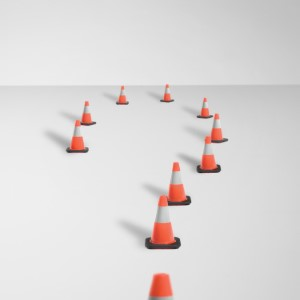traffic cone: (145, 195, 181, 249), (164, 162, 191, 206), (197, 136, 221, 173), (65, 119, 88, 153), (206, 113, 228, 143), (149, 273, 173, 300), (78, 100, 96, 125), (197, 97, 213, 119), (160, 83, 175, 102), (115, 84, 129, 104)
